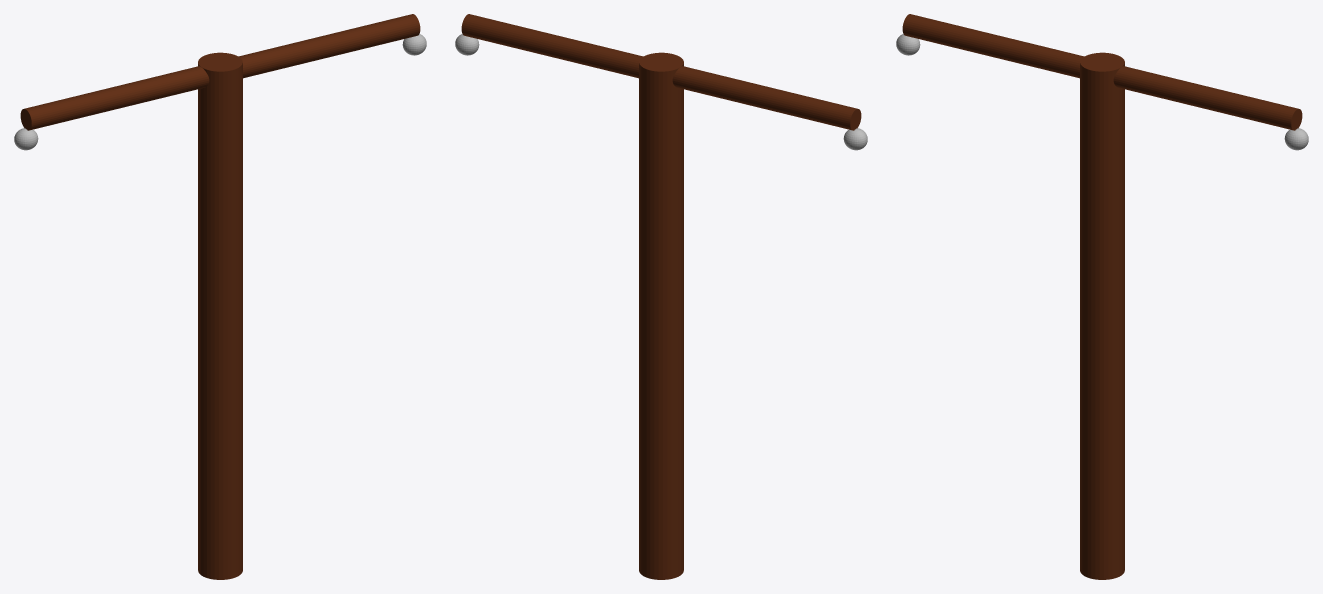
The model's file is PowerPole.glb.
3 views of the same model, side by side, from view 1: azimuth 30°, elevation 25°; view 2: azimuth 150°, elevation 25°; view 3: azimuth 330°, elevation 25° (orthographic).
Parts seen in each view (by area): view 1: Cylinder, Cylinder.001; view 2: Cylinder, Cylinder.001; view 3: Cylinder, Cylinder.001.
Boxes of the visible parts, bbox=[...] form: Cylinder: bbox=[198, 52, 242, 579]; Cylinder.001: bbox=[20, 14, 420, 130]; Cylinder: bbox=[639, 52, 683, 579]; Cylinder.001: bbox=[461, 14, 861, 130]; Cylinder: bbox=[1080, 52, 1124, 579]; Cylinder.001: bbox=[902, 14, 1302, 130].
Bounding box in the file's own units: 4.22 × 5 × 0.4.
